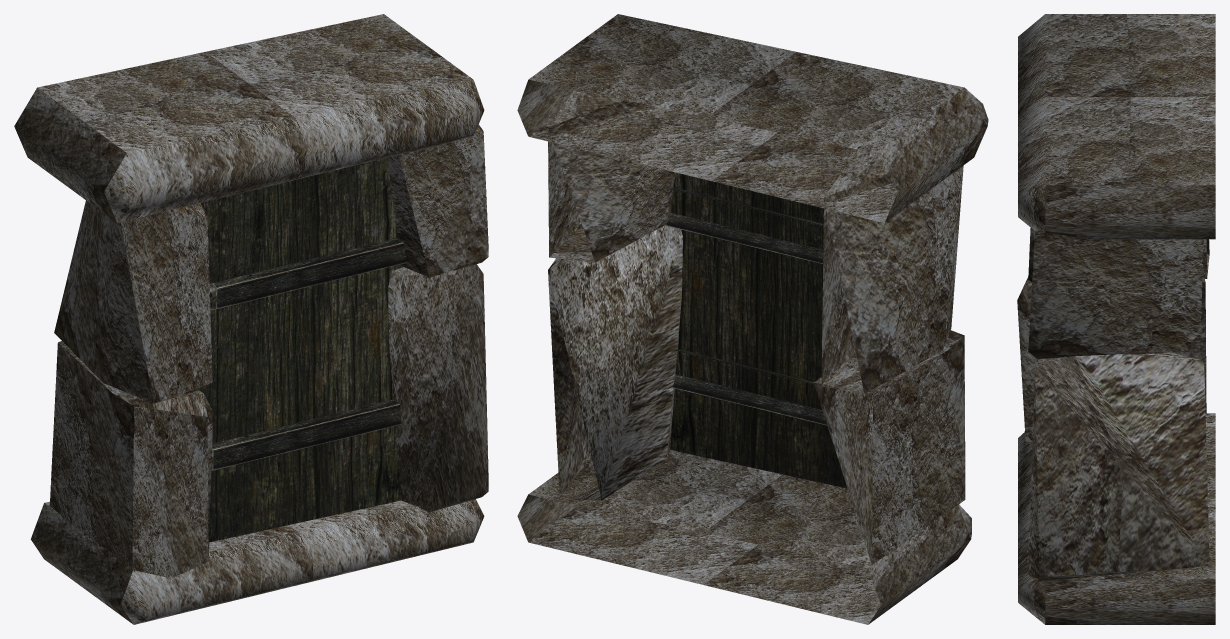
Rendered from ex_nord_win_02.obj.
The picture shows the model from 3 angles, left to right: view 1: azimuth 30°, elevation 25°; view 2: azimuth 150°, elevation 25°; view 3: azimuth 270°, elevation 25°; orthographic projection. The views are drawn at different scales.
Parts seen in each view (by area): view 1: nifid_11-matrix_Tri_Ex_nord_win_02_2-lib, nifid_1-matrix_Tri_Ex_nord_win_02_0-lib, nifid_6-matrix_Tri_Ex_nord_win_02_1-lib; view 2: nifid_11-matrix_Tri_Ex_nord_win_02_2-lib, nifid_1-matrix_Tri_Ex_nord_win_02_0-lib, nifid_6-matrix_Tri_Ex_nord_win_02_1-lib; view 3: nifid_11-matrix_Tri_Ex_nord_win_02_2-lib.
Part boxes in pixels (<box>): nifid_11-matrix_Tri_Ex_nord_win_02_2-lib: <box>14,14,488,624</box>; nifid_1-matrix_Tri_Ex_nord_win_02_0-lib: <box>200,157,402,542</box>; nifid_6-matrix_Tri_Ex_nord_win_02_1-lib: <box>212,238,406,470</box>; nifid_11-matrix_Tri_Ex_nord_win_02_2-lib: <box>517,14,988,624</box>; nifid_1-matrix_Tri_Ex_nord_win_02_0-lib: <box>670,172,847,488</box>; nifid_6-matrix_Tri_Ex_nord_win_02_1-lib: <box>665,187,827,425</box>; nifid_11-matrix_Tri_Ex_nord_win_02_2-lib: <box>1017,14,1215,624</box>.
Size of the model in its own units: 2 by 2.37 by 0.9456.
